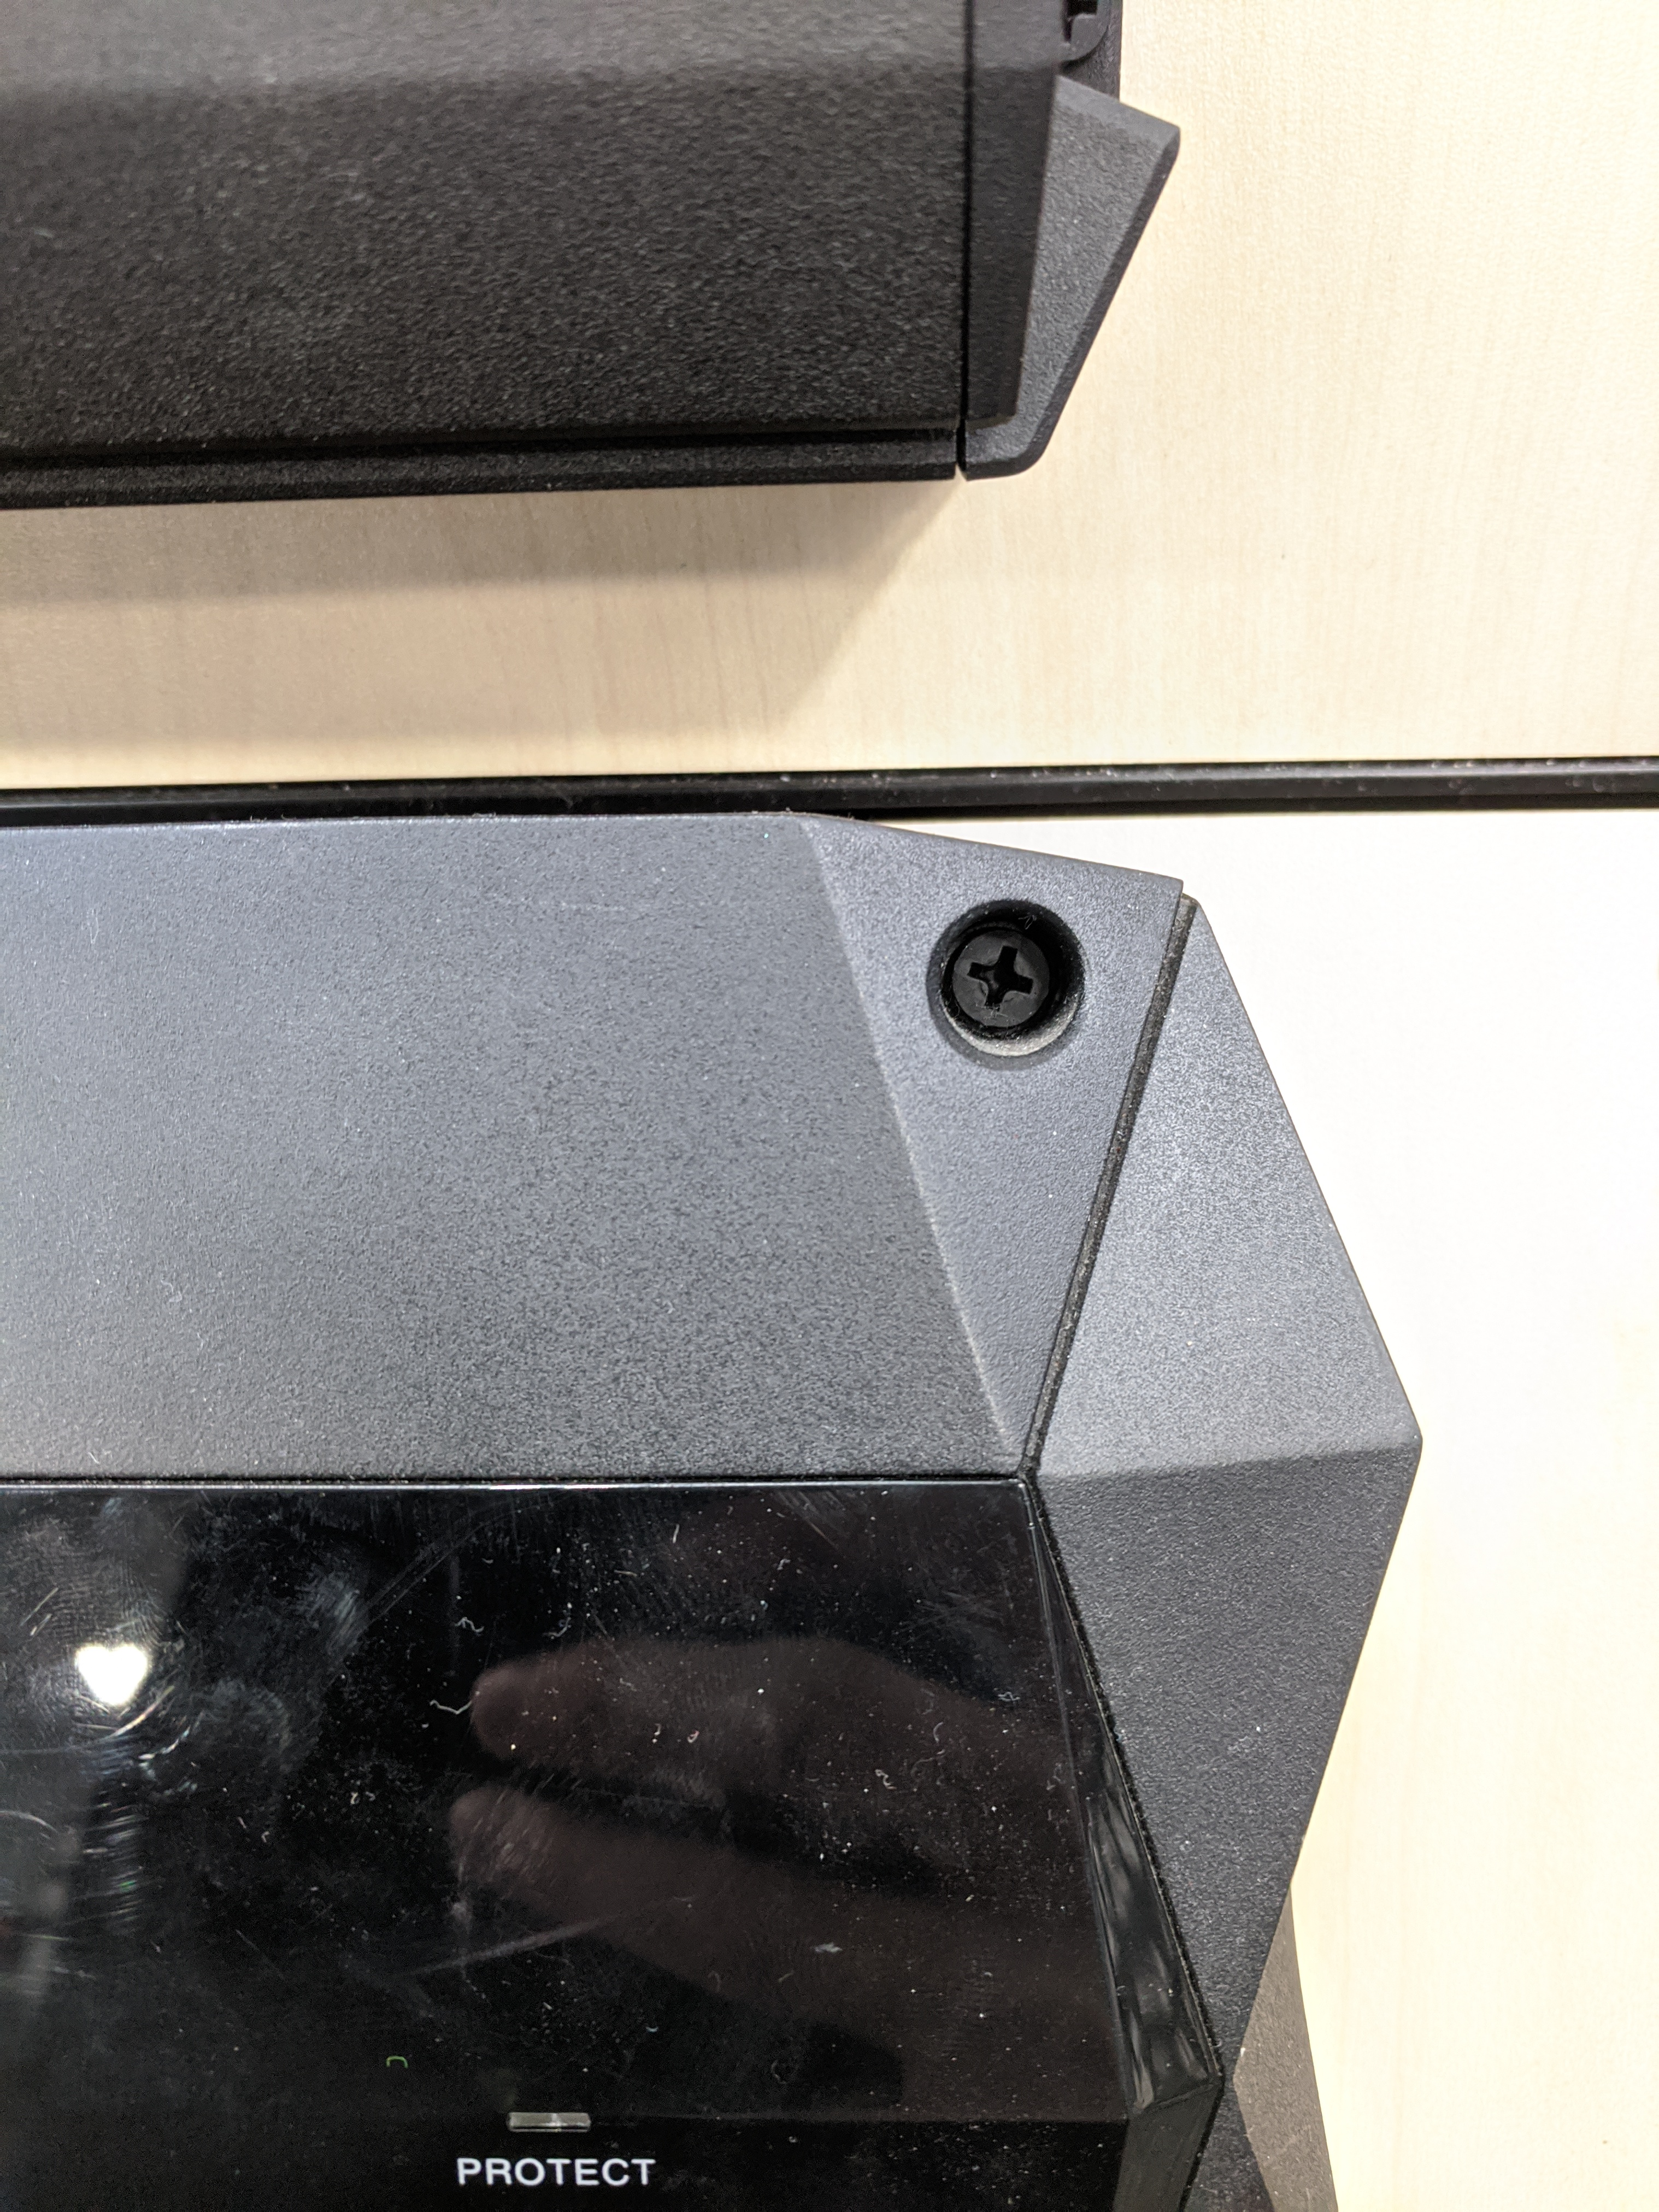cross_recessed_screw: (938, 907, 1080, 1054)
